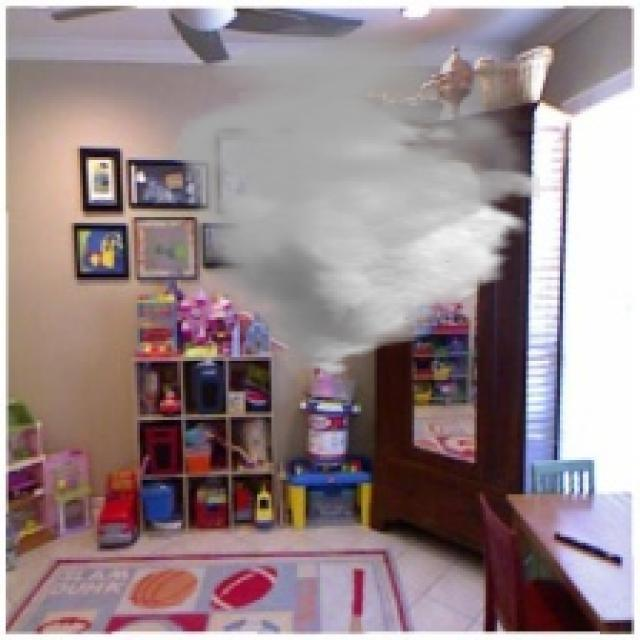Smoke: (168, 20, 540, 380)
